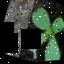Purslane: (13, 0, 64, 63)
